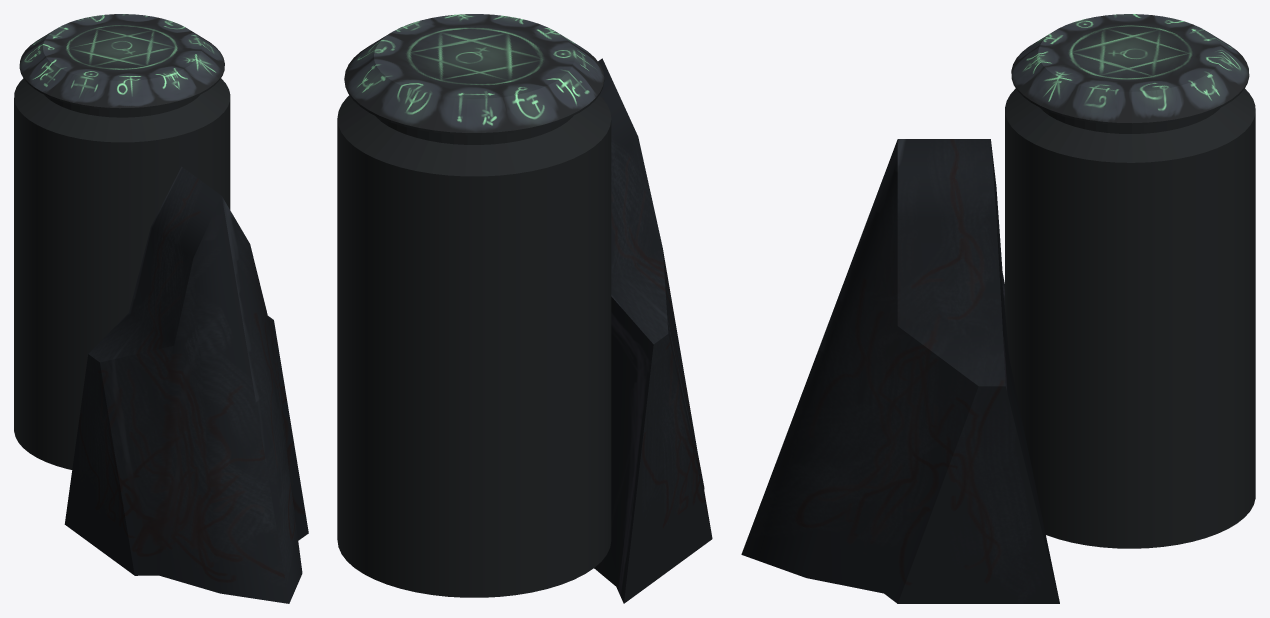
The model's file is necromancers alter.fbx.
The picture shows the model from 3 angles, left to right: view 1: azimuth 30°, elevation 25°; view 2: azimuth 150°, elevation 25°; view 3: azimuth 270°, elevation 25°; orthographic projection. The views are drawn at different scales.
Visible parts, largest first — view 1: pCube16, pCylinder5; view 2: pCylinder5, pCube16; view 3: pCylinder5, pCube16.
Boxes of the visible parts, x1=… form: pCube16: x1=64, y1=166, x2=308, y2=603; pCylinder5: x1=14, y1=14, x2=230, y2=469; pCylinder5: x1=337, y1=14, x2=611, y2=597; pCube16: x1=594, y1=58, x2=712, y2=603; pCylinder5: x1=1005, y1=14, x2=1255, y2=548; pCube16: x1=741, y1=139, x2=1059, y2=603.
Size of the model in its own units: 47.2 by 104 by 96.76.
Materials: 2 (2 with a texture image).
